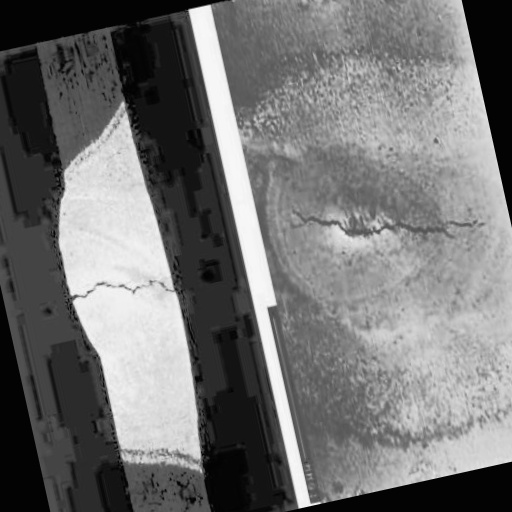crack: (282, 173, 485, 269), (66, 265, 173, 314)
